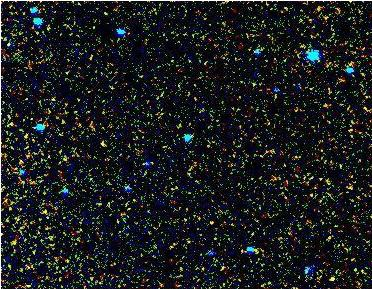star: (320, 258, 350, 288)
